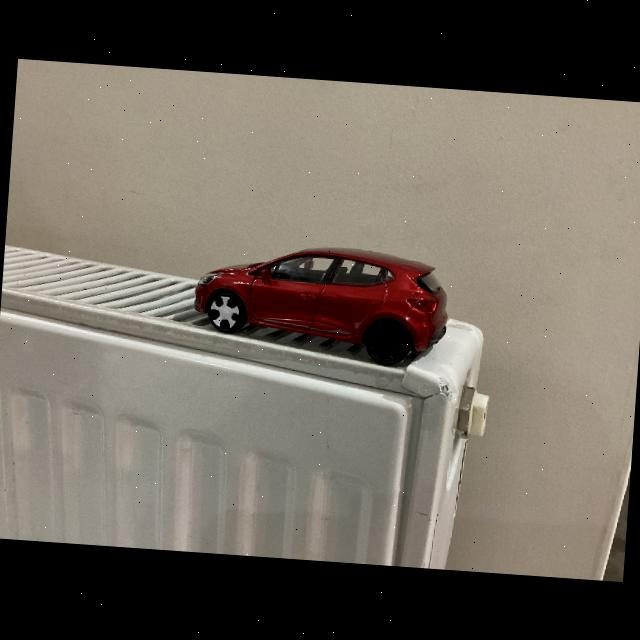Dogru_Jant: (368, 324, 406, 361)
Yanlis_Jant: (208, 294, 242, 329)
